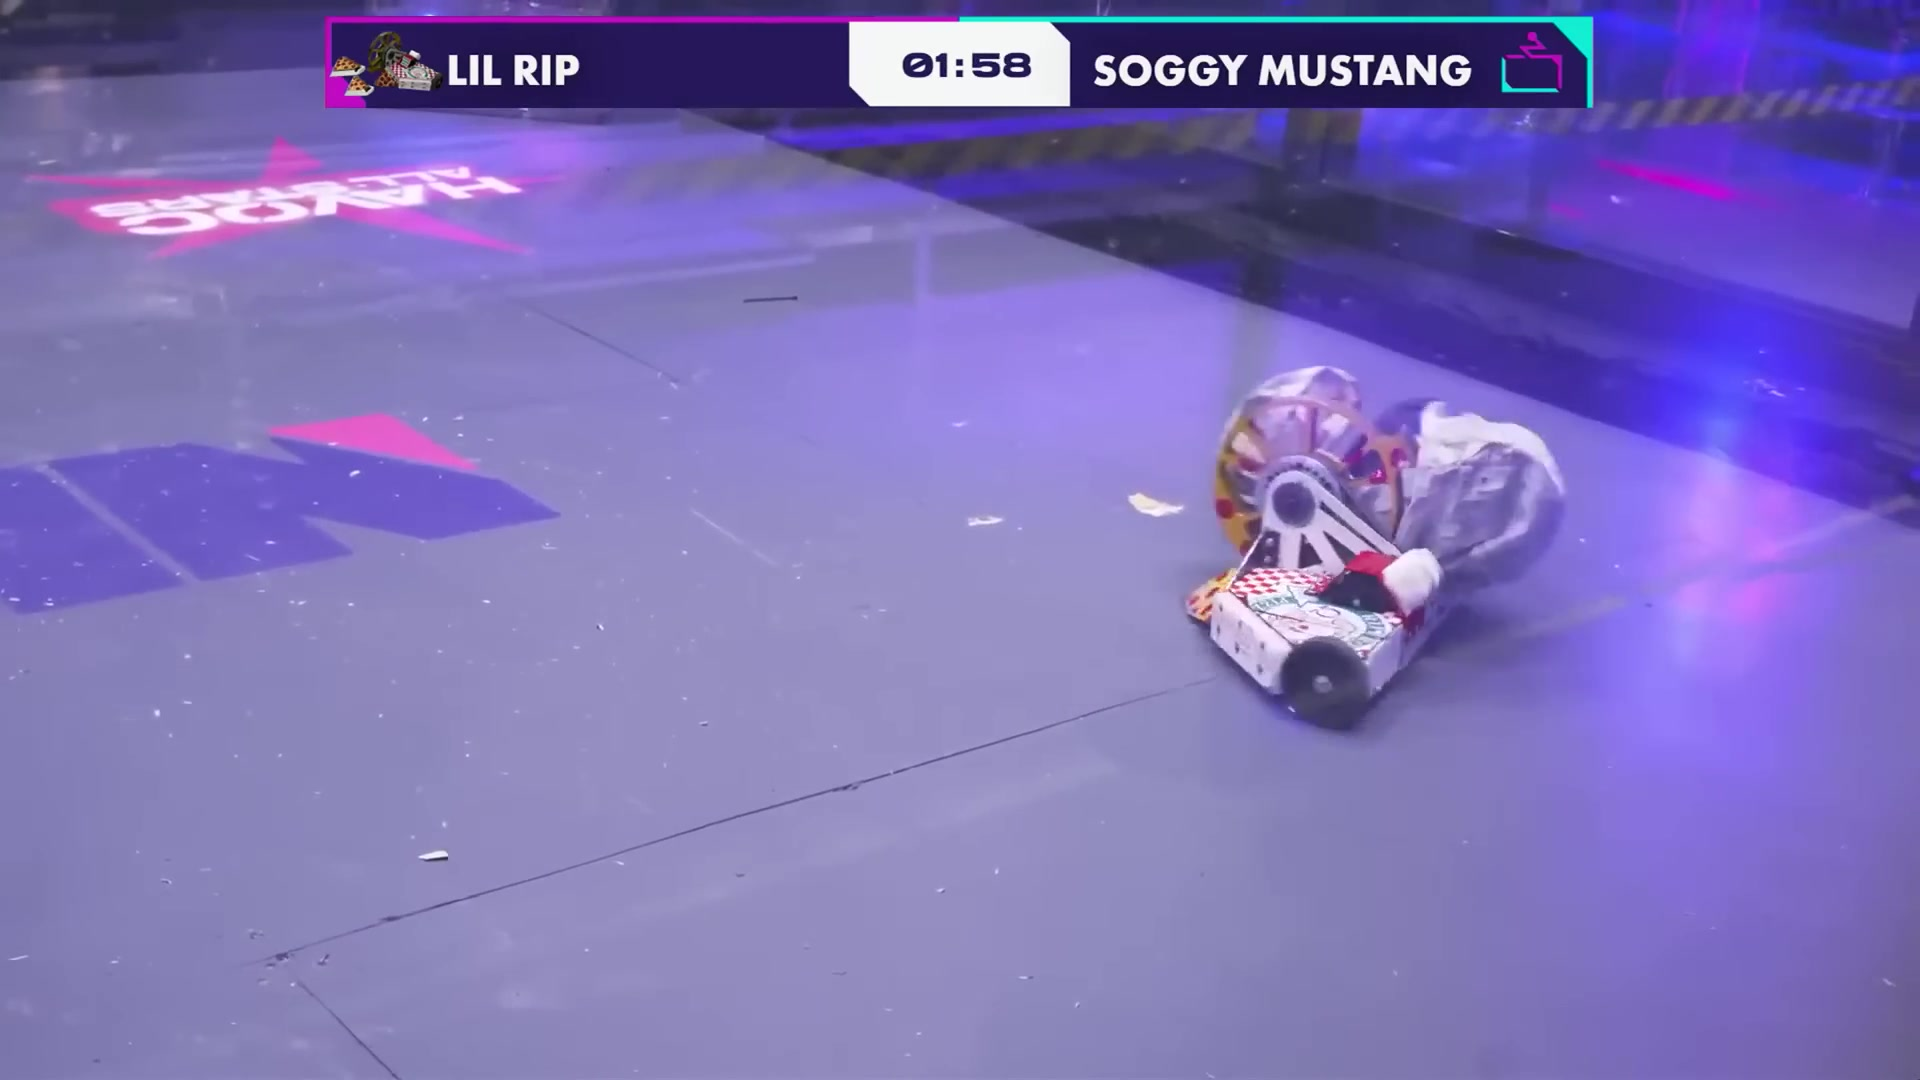combatbot: (1185, 366, 1561, 748)
